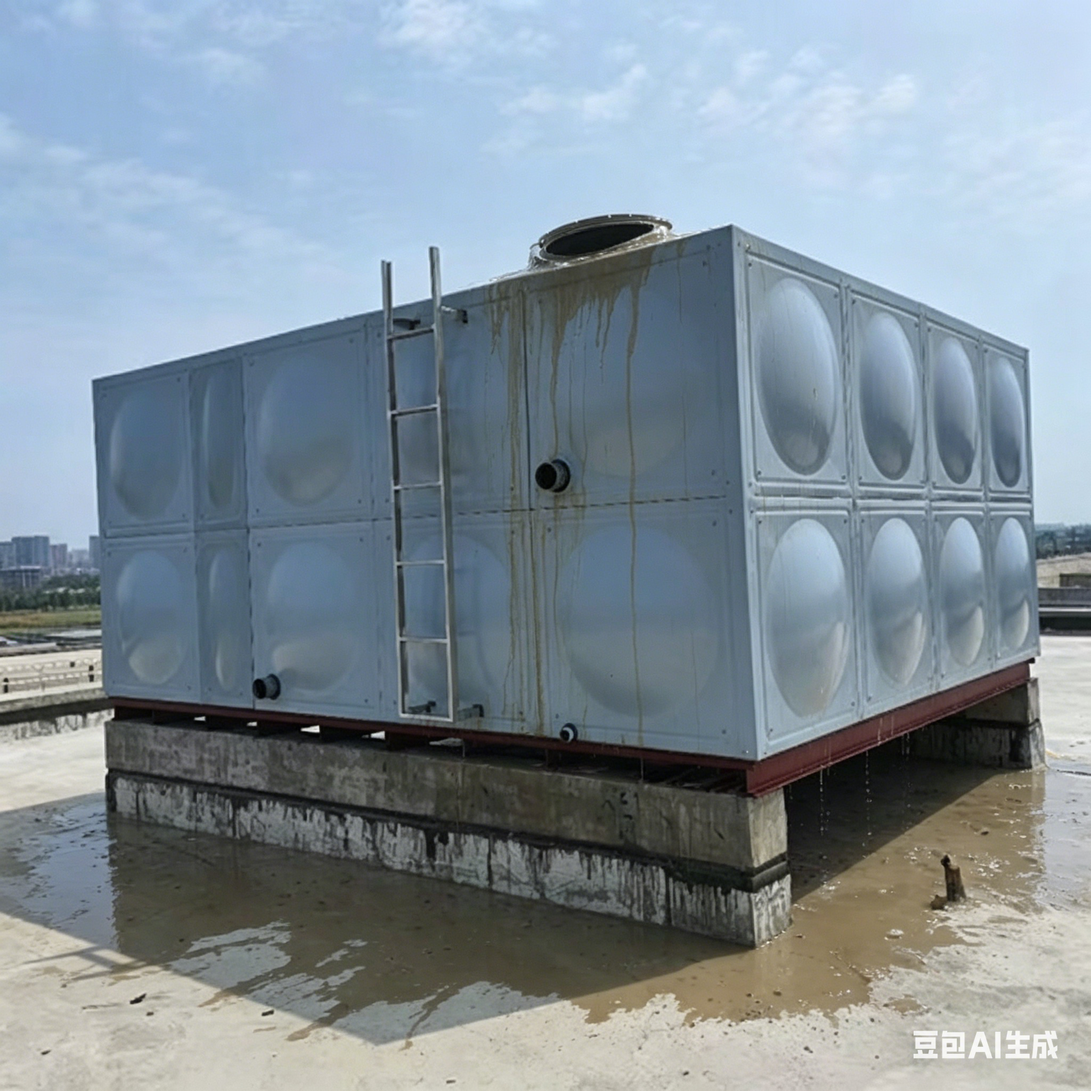Leakage: (42, 824, 864, 1017), (878, 750, 1091, 951)
